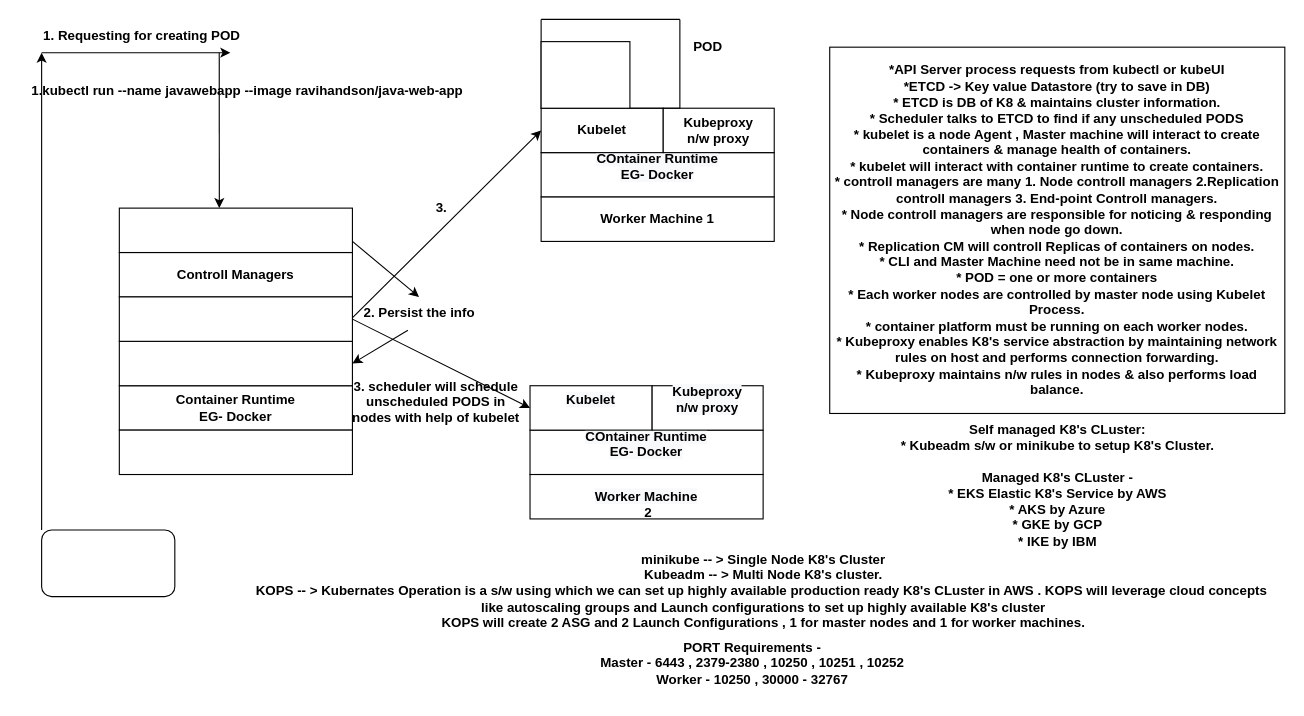
The diagram is 1304 pixels wide and 716 high, and some of its shapes have lost their labels. The box of each missing label's shape, as (x1, y1, x2, y2) in pixels:
1. API Server: (118, 207, 352, 253)
2. ETCD: (118, 340, 352, 386)
3. Scheduler: (118, 296, 352, 341)
CLI Kubectl Cli s/w to interact with master: (41, 529, 175, 597)
Container: (540, 41, 630, 108)
Master Machine: (118, 429, 352, 475)
